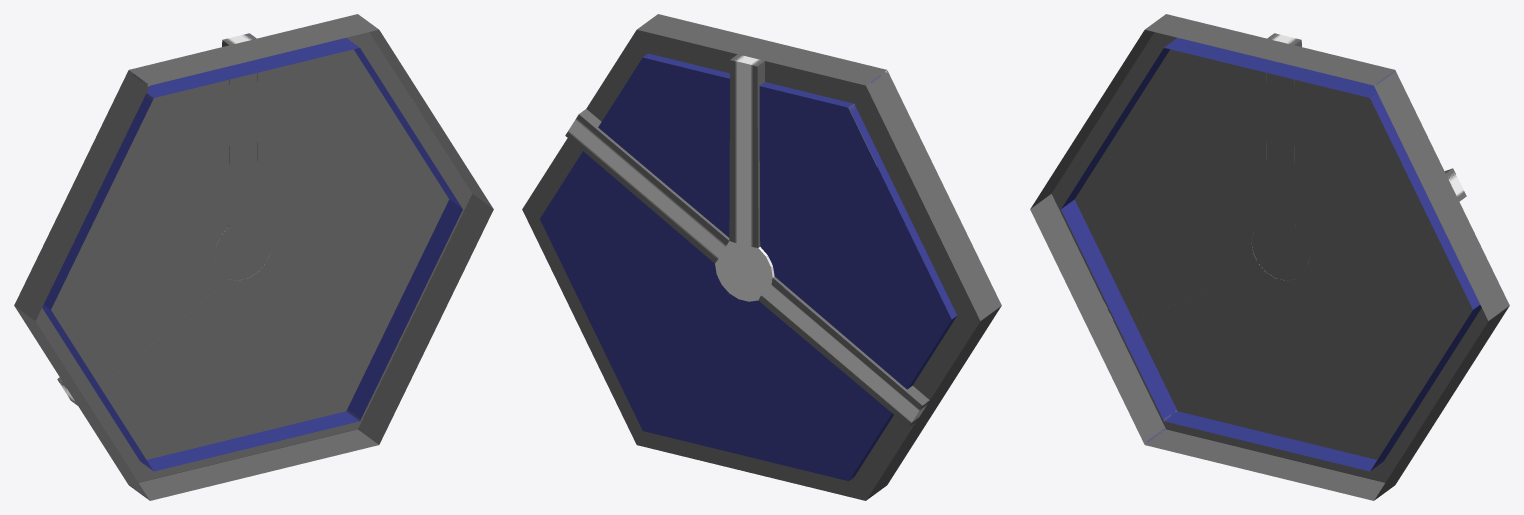
File: Hexagons Middle 3 Trails.fbx
3 renders of one model, left to right at view 1: azimuth 30°, elevation 25°; view 2: azimuth 150°, elevation 25°; view 3: azimuth 330°, elevation 25°, orthographic.
Visible parts, largest first — view 1: Cylinder.047; view 2: Cylinder.047; view 3: Cylinder.047.
Boxes of the visible parts, x1=… form: Cylinder.047: x1=14, y1=14, x2=493, y2=500; Cylinder.047: x1=522, y1=14, x2=1001, y2=500; Cylinder.047: x1=1030, y1=14, x2=1509, y2=500.
Size of the model in its own units: 14 by 12.12 by 1.53.
Materials: 1 (1 with a texture image).
